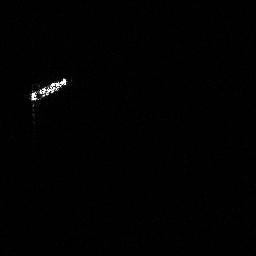ship: (25, 72, 70, 108)
